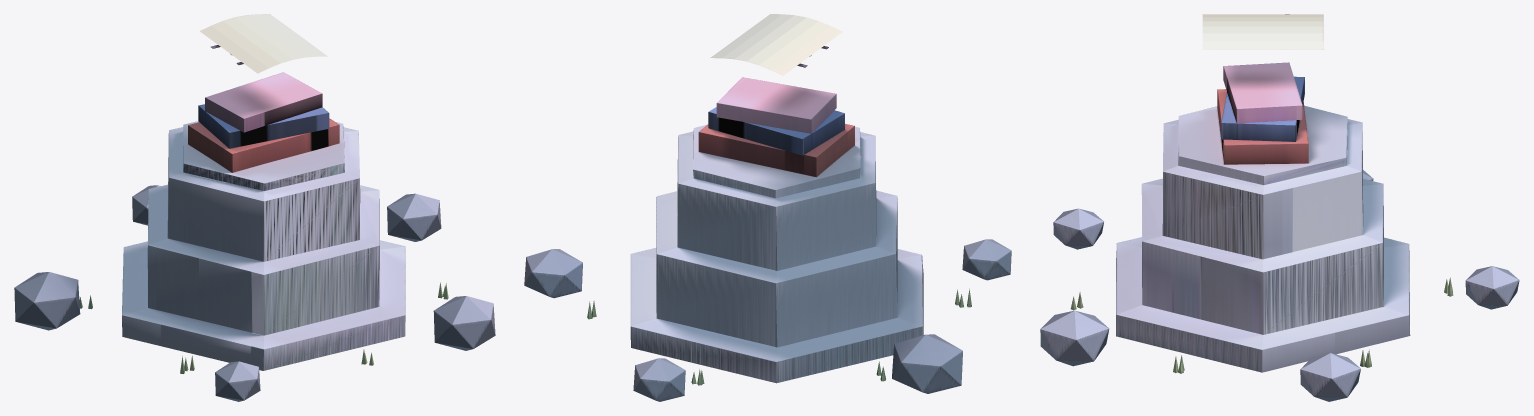
Rendered from landmark-blog.glb.
3 views of the same model, side by side, from view 1: azimuth 30°, elevation 25°; view 2: azimuth 150°, elevation 25°; view 3: azimuth 270°, elevation 25° (orthographic). The views are drawn at different scales.
Parts seen in each view (by area): view 1: blog_joined; view 2: blog_joined; view 3: blog_joined.
Boxes of the visible parts, x1=… form: blog_joined: x1=14, y1=14, x2=495, y2=401; blog_joined: x1=524, y1=14, x2=1011, y2=401; blog_joined: x1=1040, y1=14, x2=1519, y2=401.
Bounding box in the file's own units: 4.19 × 2.59 × 3.96.
8 materials, 8 textured.
